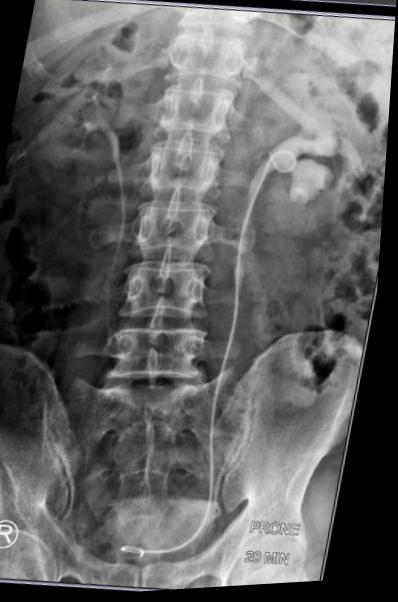bladder: (87, 487, 243, 582)
left kidney: (246, 52, 390, 252)
right kidney: (25, 20, 159, 201)
vertebrae: (156, 68, 249, 140)
